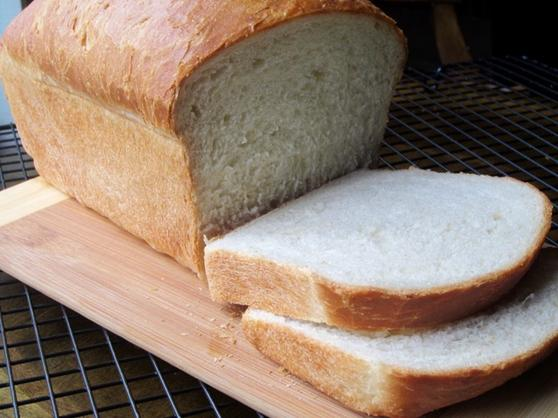white_bread: (3, 6, 382, 263)
